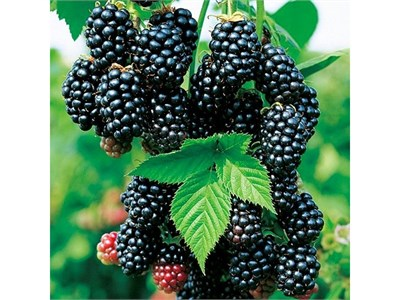Blackberry: (90, 73, 142, 141), (210, 19, 260, 86), (136, 26, 191, 86), (263, 109, 309, 167)
